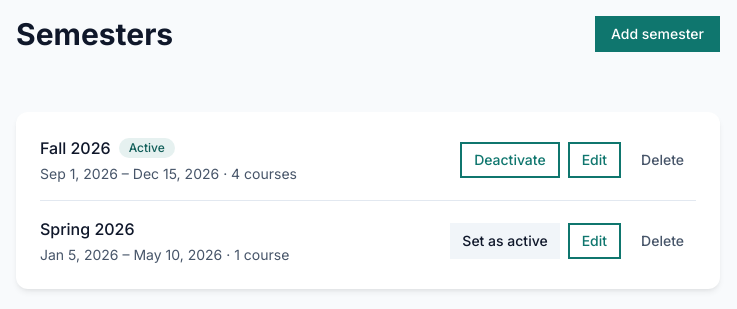
Scenario: SemestersPage activation (AC 4, D110-1) › activates a non-active row via PATCH { isActive: true } and re-derives the list from the API
Click the button with aria-label "set spring 2026 as active" at (505, 241), box [450, 223, 560, 259]
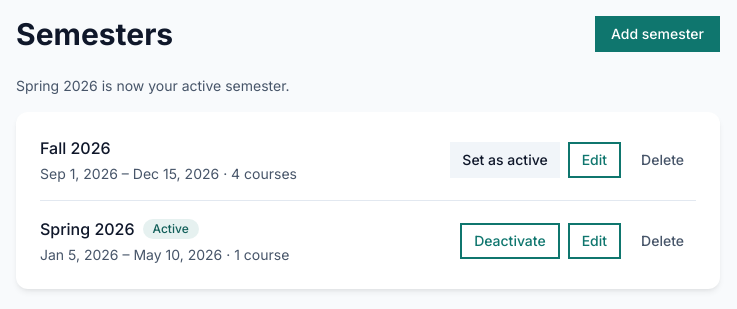
expect the list item that starts with "Fall 2026" does not show "Active": met, box [450, 142, 560, 178]
expect the message reads "Spring 2026 is now your active semester.": met, box [16, 77, 290, 94]
